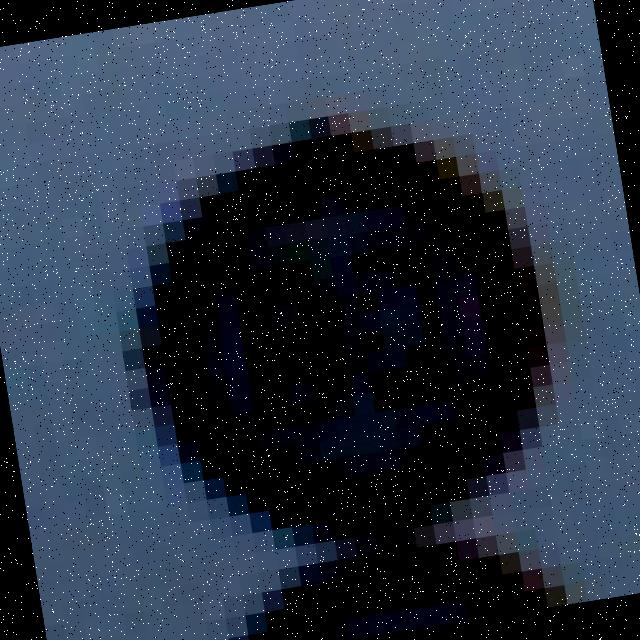Ograniczenie predkosci do 80: (133, 128, 557, 547)
